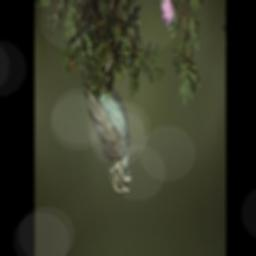Sparrow: (76, 40, 133, 204)
